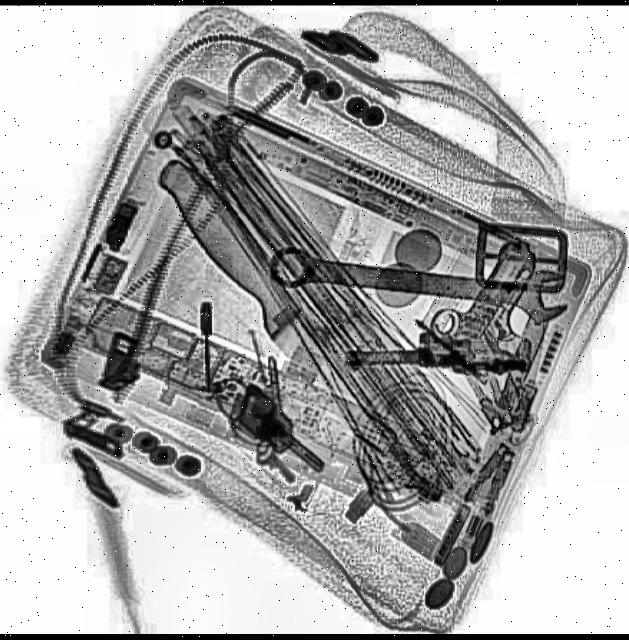Gun: (340, 234, 531, 374)
Knife: (148, 141, 391, 476)
Wrench: (265, 236, 568, 327)
